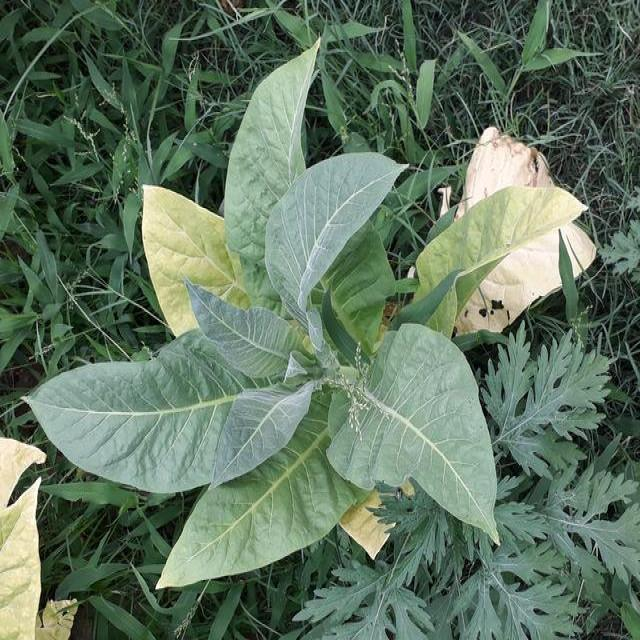crop: (64, 62, 510, 582)
